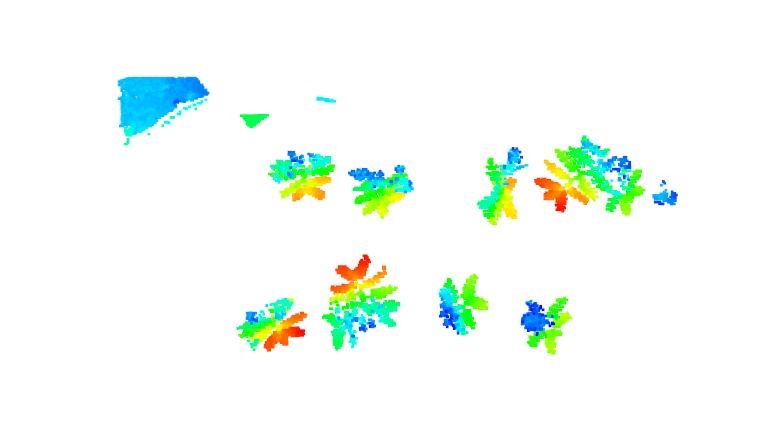chickpea: (532, 134, 680, 220), (321, 250, 404, 354), (234, 293, 313, 354), (474, 145, 526, 228), (345, 163, 418, 221), (267, 147, 336, 206), (439, 270, 491, 335), (522, 292, 572, 355)
